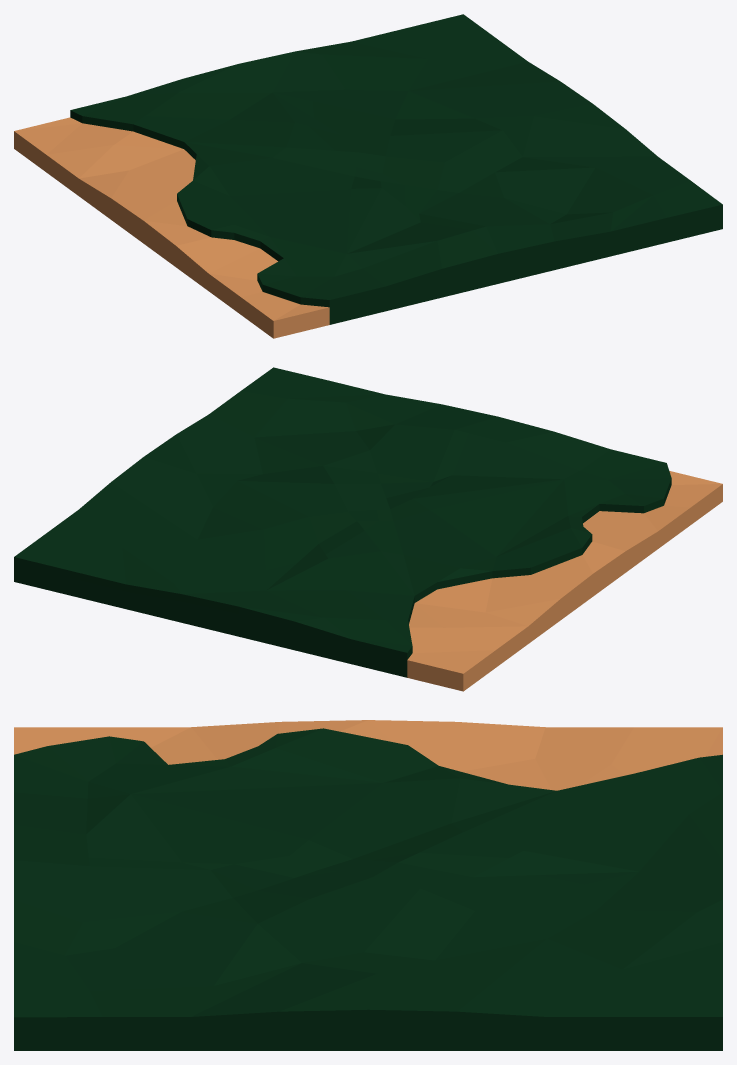
File: Road_green_1.FBX
The picture shows the model from 3 angles, top to bottom: view 1: azimuth 30°, elevation 25°; view 2: azimuth 150°, elevation 25°; view 3: azimuth 270°, elevation 25°; orthographic projection. The views are drawn at different scales.
Visible parts, largest first — view 1: Road_green_1; view 2: Road_green_1; view 3: Road_green_1.
Part boxes in pixels (x1,y1,x2,y2): Road_green_1: (14,14,722,338); Road_green_1: (14,367,722,691); Road_green_1: (14,720,722,1050).
Bounding box in the file's own units: 1.5 × 0.1065 × 1.5.
Materials: 1 (1 with a texture image).
